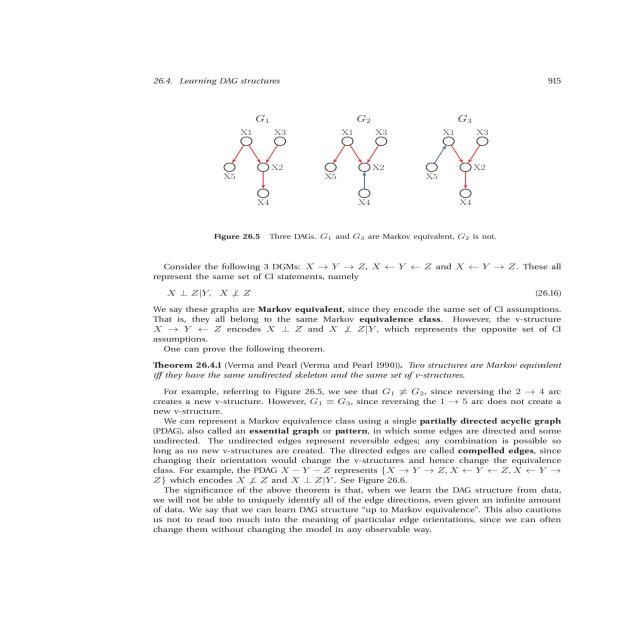diagram: (130, 105, 528, 248)
